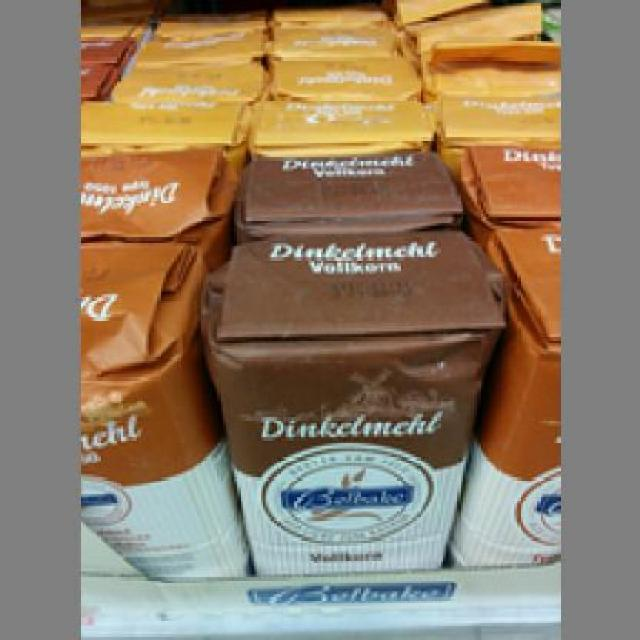Flour: (211, 232, 500, 574), (80, 237, 243, 572)
